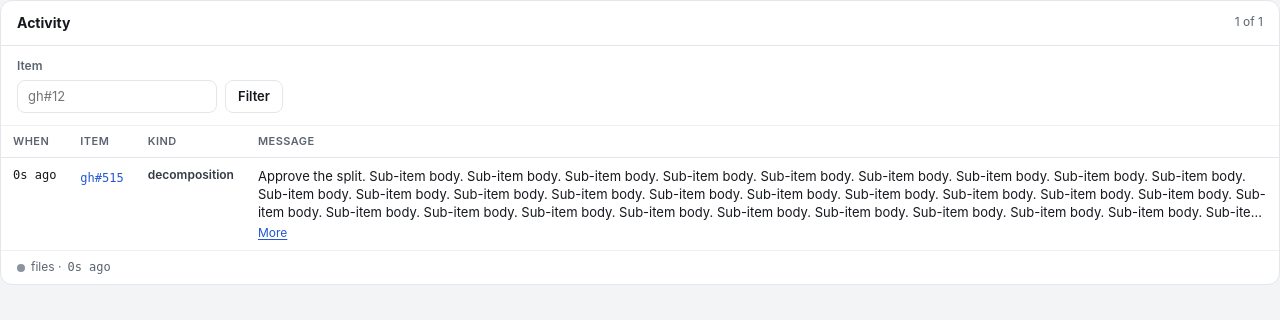
Test case: LongMessage_UnfoldsOnMore
Click the button "More".
click(273, 233)  # box [258,224,287,241]
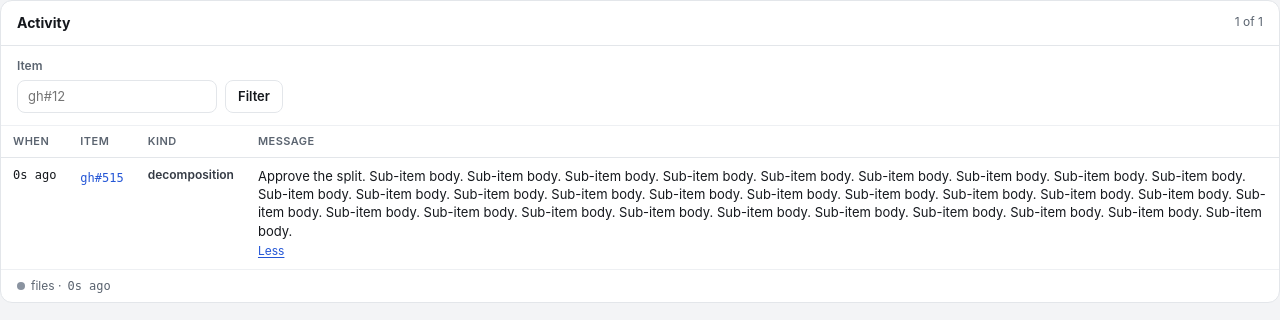
Check: the button "Less" is expanded, box [258,243,284,260]
